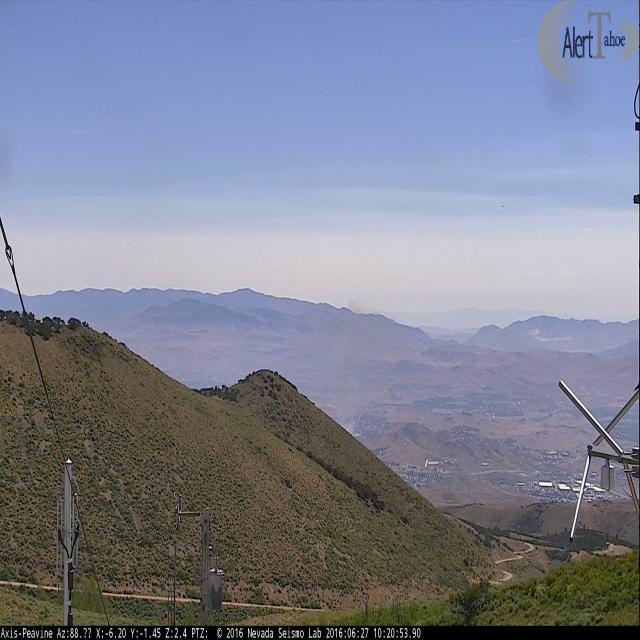smoke: (332, 299, 367, 435)
